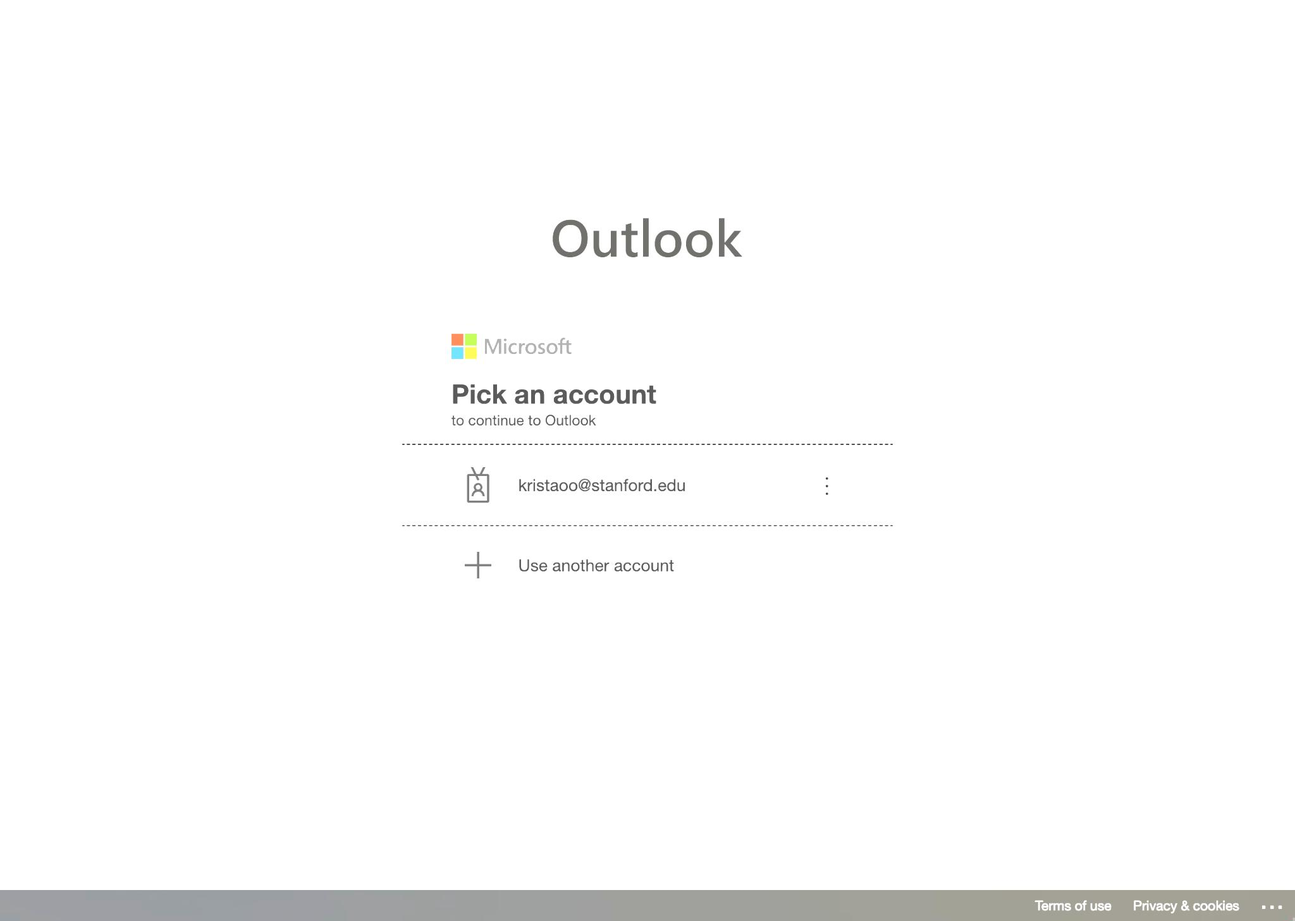webelement: (0, 0, 1294, 920), (450, 445, 842, 605), (0, 889, 1294, 920), (401, 445, 891, 525), (401, 525, 891, 605), (450, 378, 842, 409), (552, 217, 742, 257), (1132, 889, 1238, 920), (450, 333, 570, 360), (450, 458, 503, 511), (450, 539, 503, 592), (1035, 889, 1110, 920), (1261, 889, 1285, 913), (817, 473, 842, 495)
